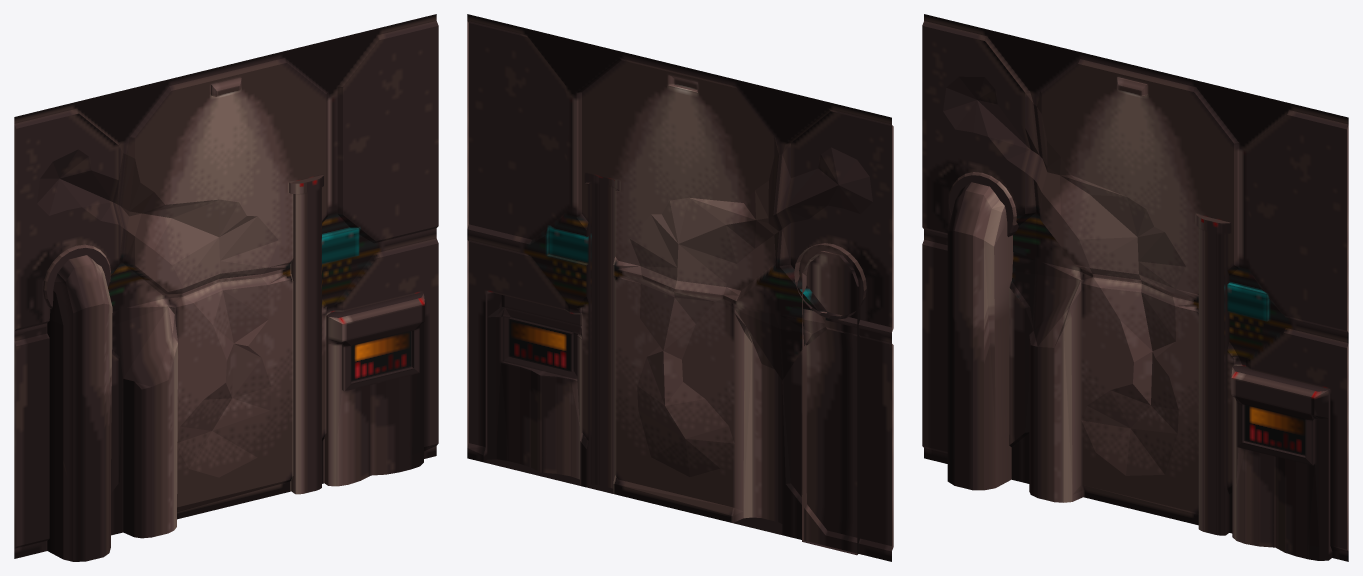
File: eng1_3d.fbx
The picture shows the model from 3 angles, left to right: view 1: azimuth 30°, elevation 25°; view 2: azimuth 150°, elevation 25°; view 3: azimuth 330°, elevation 25°; orthographic projection.
Parts seen in each view (by area): view 1: eng1_3_mesh; view 2: eng1_3_mesh; view 3: eng1_3_mesh.
Boxes of the visible parts, box(x1,y1,x2,y2) form: eng1_3_mesh: box(14, 14, 438, 561); eng1_3_mesh: box(467, 14, 893, 561); eng1_3_mesh: box(922, 14, 1348, 561).
Bounding box in the file's own units: 256 × 256 × 27.48.
